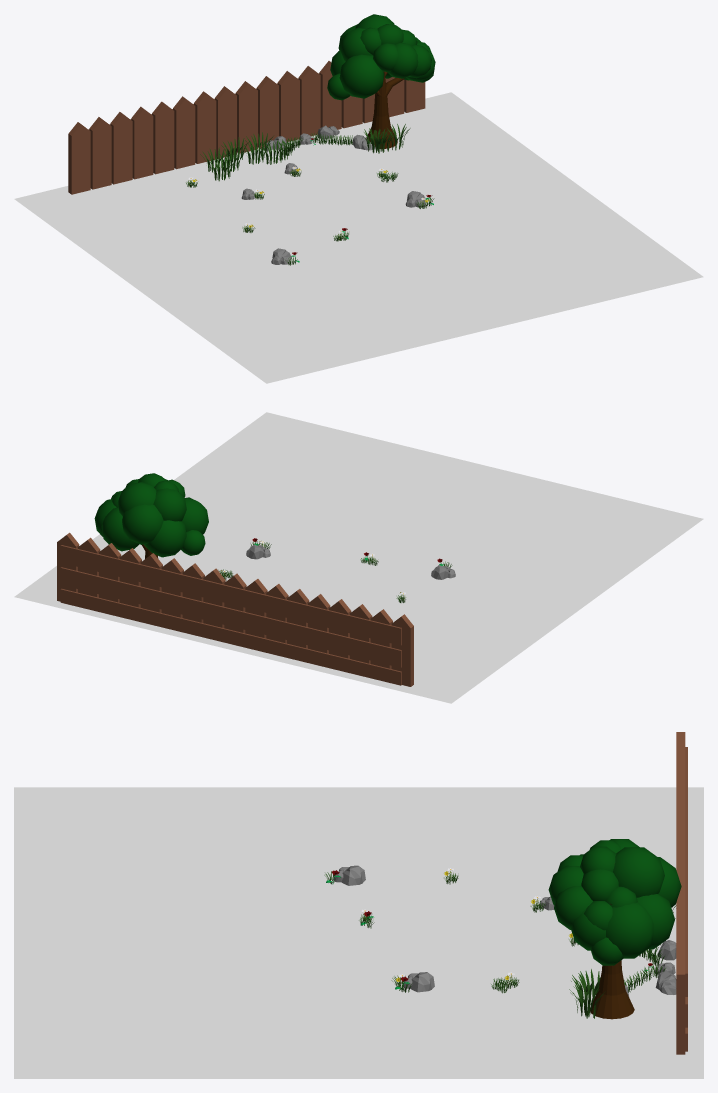
Rendered from scene kucing berak.fbx.
3 views of the same model, one above another, from view 1: azimuth 30°, elevation 25°; view 2: azimuth 150°, elevation 25°; view 3: azimuth 270°, elevation 25° (orthographic). The views are drawn at different scales.
Parts seen in each view (by area): view 1: Plane, Cube, Icosphere.049, Cylinder; view 2: Plane, Cube, Icosphere.049, Cube.001, Cube.002, Cube.003; view 3: Plane, Icosphere.049, Cube, Cylinder, Cube.001.
Part boxes in pixels (bbox=[...]): Plane: bbox=[14, 92, 703, 383]; Cube: bbox=[68, 61, 425, 194]; Icosphere.049: bbox=[327, 14, 435, 100]; Cylinder: bbox=[366, 71, 404, 148]; Plane: bbox=[14, 412, 703, 703]; Cube: bbox=[57, 532, 413, 686]; Icosphere.049: bbox=[94, 473, 208, 557]; Cube.001: bbox=[60, 545, 401, 645]; Cube.002: bbox=[60, 567, 401, 667]; Cube.003: bbox=[60, 588, 401, 685]; Plane: bbox=[14, 787, 703, 1078]; Icosphere.049: bbox=[548, 839, 681, 965]; Cube: bbox=[676, 732, 685, 1054]; Cylinder: bbox=[590, 903, 634, 1019]; Cube.001: bbox=[685, 747, 687, 996].
Size of the model in its own units: 1008 by 271 by 1008.
Materials: 13 (2 with a texture image).
